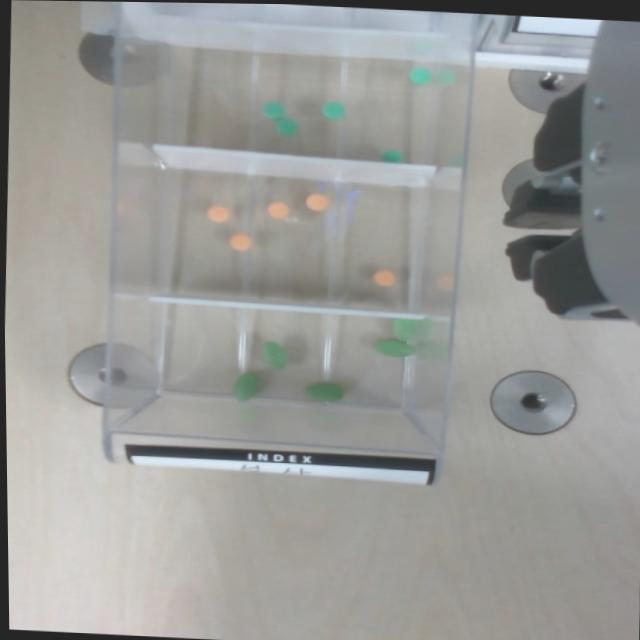famodine: (408, 64, 433, 83), (259, 99, 285, 117), (322, 99, 345, 118), (274, 116, 298, 134), (379, 149, 403, 162)
otillen_tab: (232, 369, 260, 401), (304, 381, 344, 401), (304, 381, 343, 401), (233, 371, 259, 400), (372, 338, 413, 356), (260, 340, 286, 368), (373, 338, 413, 356), (263, 341, 287, 367), (392, 318, 414, 340), (392, 317, 413, 340)
samsung_octylonium_tab: (207, 203, 230, 220), (228, 232, 250, 249), (305, 193, 327, 210), (266, 201, 288, 217), (373, 269, 395, 285)
